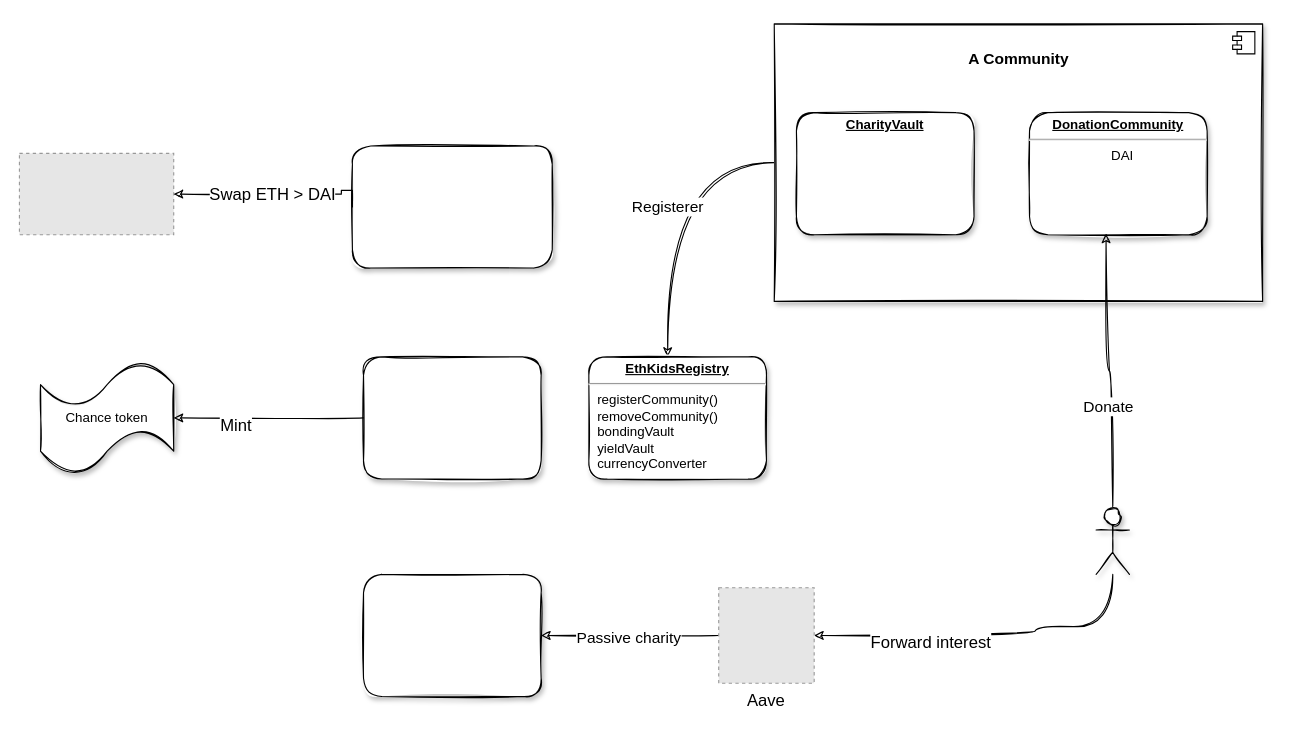
The diagram is 1289 pixels wide and 729 high, and some of its shapes have lost their labels. Grey dashed boxes stand in for pictures. Here are the shapes that lost their labels. From the top down, the centre of each, then its label:
At (453,208): "KyberConverter".
At (453,419): "BondingVault ETH".
At (453,636): "YieldVault".
